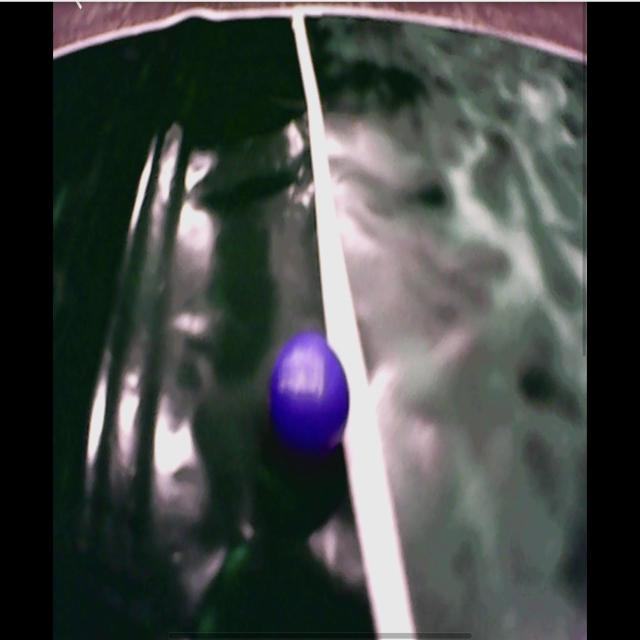ball: (270, 336, 351, 453)
